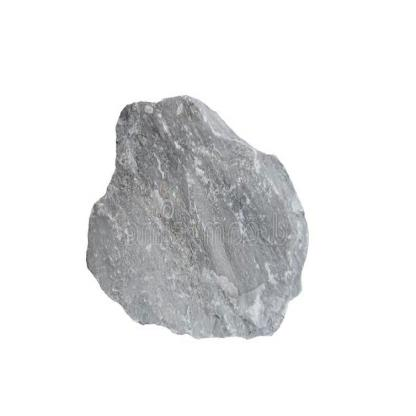Sedimentary_Limestone: (80, 87, 316, 348)
